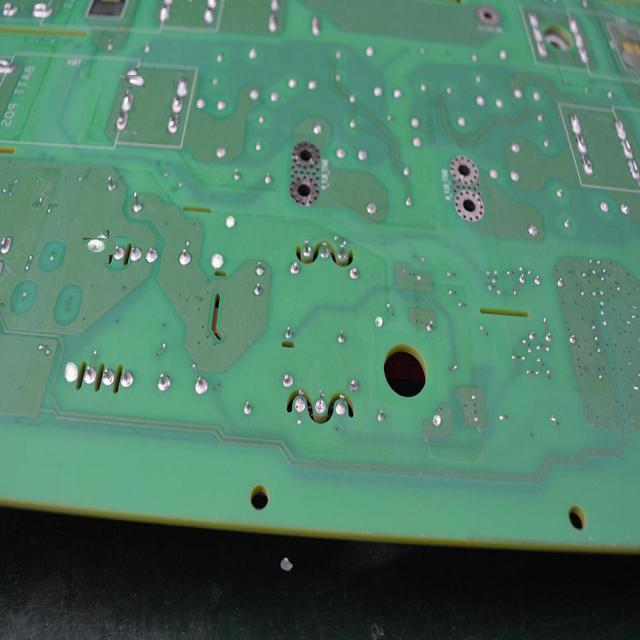slug: (87, 234, 113, 259), (173, 70, 188, 97), (122, 72, 142, 90)
